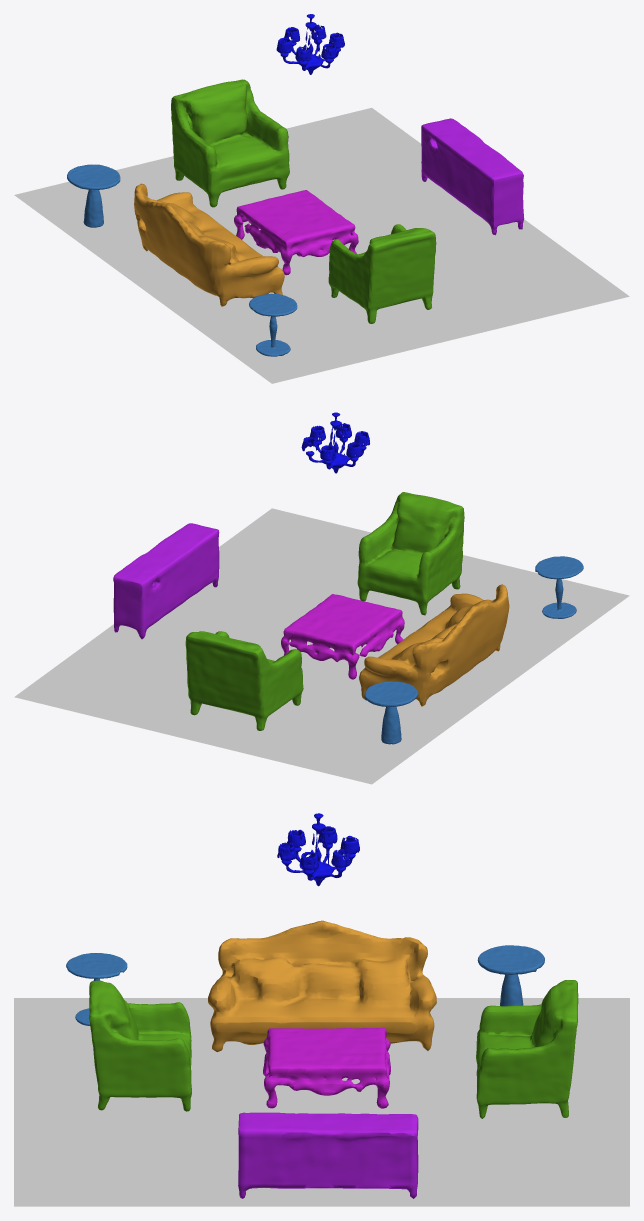
The model's file is Livingroom.glb.
3 renders of one model, top to bottom at view 1: azimuth 30°, elevation 25°; view 2: azimuth 150°, elevation 25°; view 3: azimuth 270°, elevation 25°, orthographic. The views are drawn at different scales.
Parts seen in each view (by area): view 1: world; view 2: world; view 3: world.
Boxes of the visible parts, <box> form: world: <box>14,14,629,383</box>; world: <box>14,412,629,784</box>; world: <box>14,813,629,1206</box>.
Bounding box in the file's own units: 4.62 × 2.9 × 5.77.
